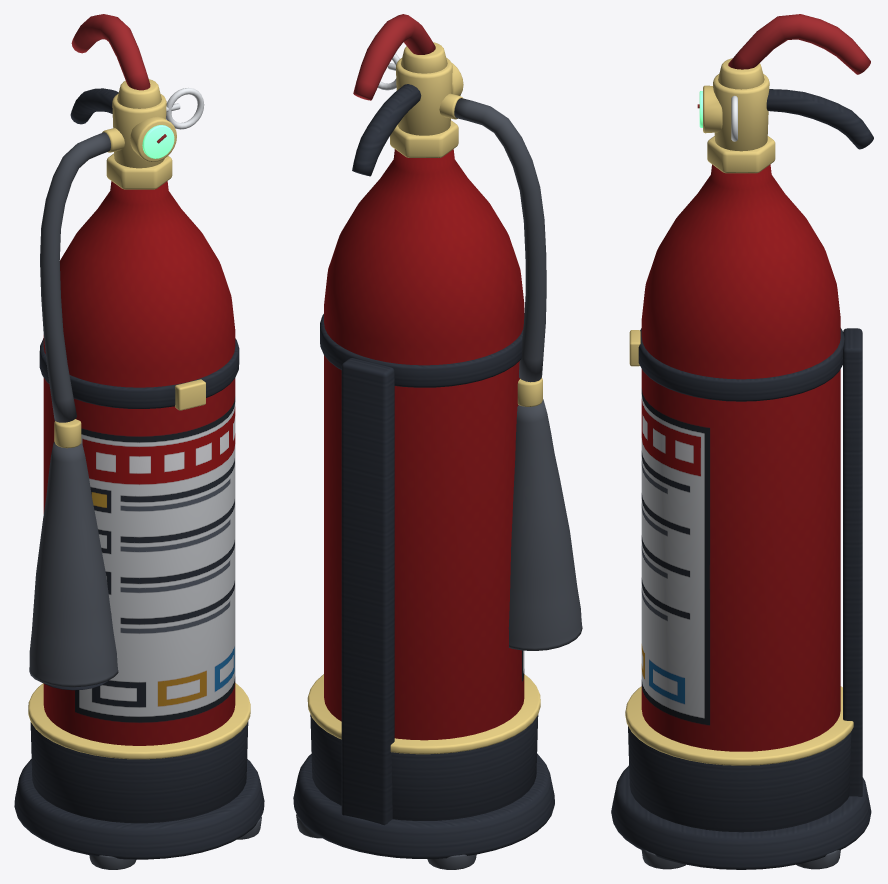
Rendered from prop_extinguisher.glb.
The picture shows the model from 3 angles, left to right: view 1: azimuth 30°, elevation 25°; view 2: azimuth 150°, elevation 25°; view 3: azimuth 270°, elevation 25°; orthographic projection. The views are drawn at different scales.
Visible parts, largest first — view 1: prop_extinguisher; view 2: prop_extinguisher; view 3: prop_extinguisher.
Boxes of the visible parts, x1=… form: prop_extinguisher: x1=14, y1=14, x2=264, y2=869; prop_extinguisher: x1=293, y1=14, x2=582, y2=869; prop_extinguisher: x1=611, y1=14, x2=873, y2=869.
Size of the model in its own units: 0.2561 by 0.821 by 0.2404.
Materials: 7 (2 with a texture image).
